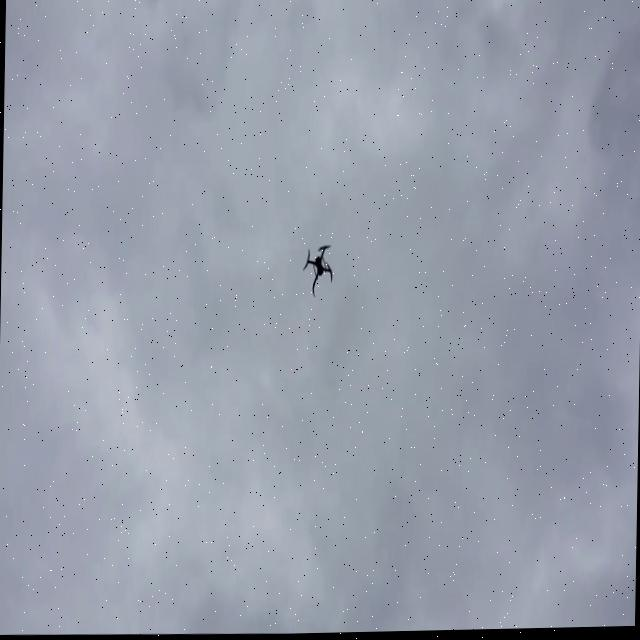drone: (298, 229, 343, 303)
